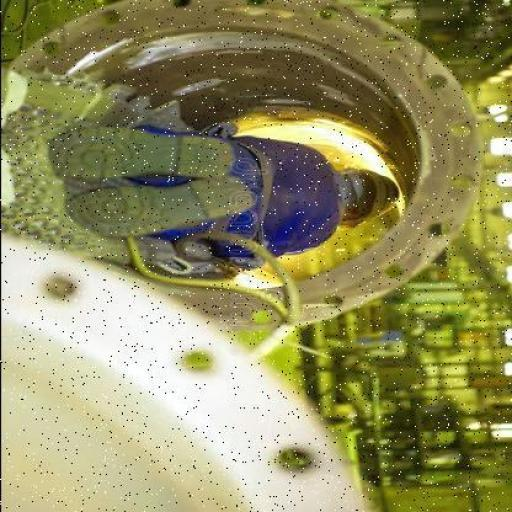safety_boots: (68, 177, 285, 246), (39, 123, 258, 181)
